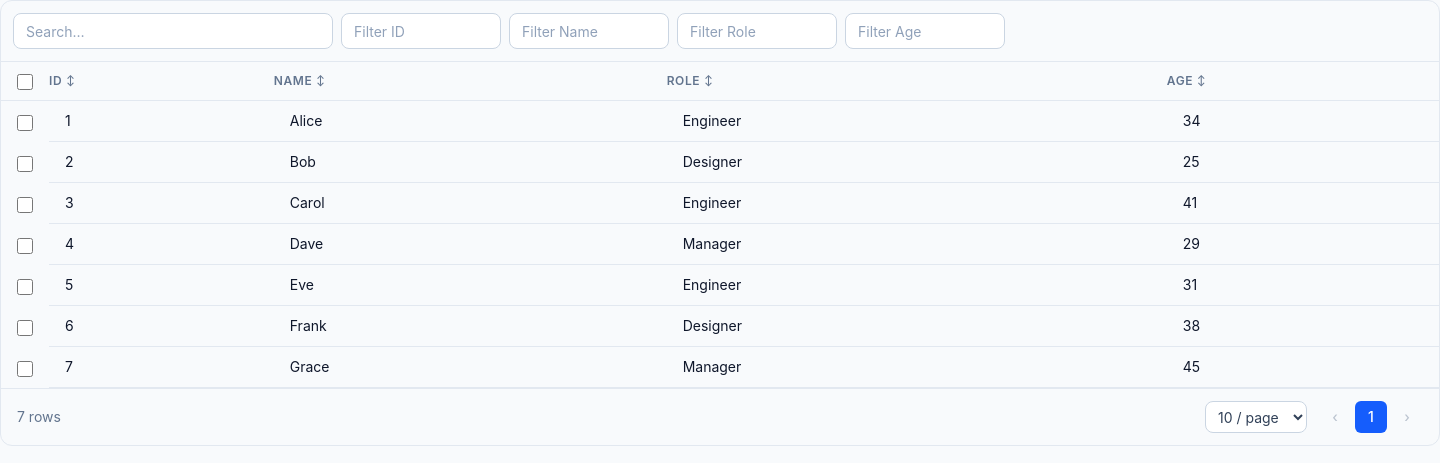
Scenario: DataTable › sorting › indicates the sort direction on the header
The width and height of the screenshot is (1440, 463).
Click the button with aria-label "Sort by Name". click: (300, 81)
box: [274, 73, 326, 89]
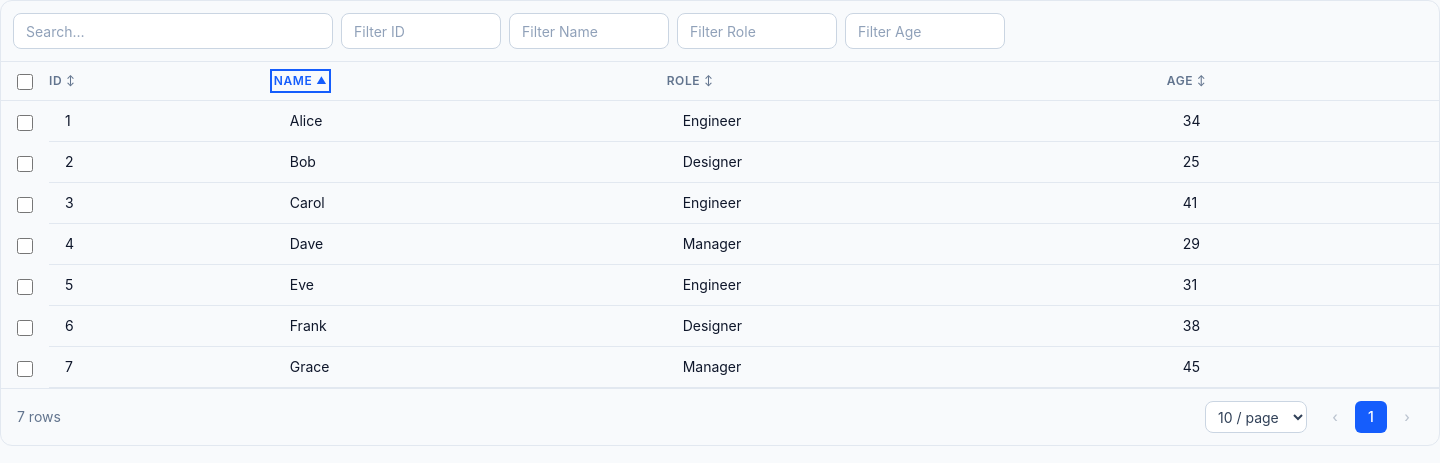
Result: the button with aria-label "Sort by Name" shows "▲"
Click the button with aria-label "Sort by Name". click: (301, 81)
box: [274, 73, 327, 89]
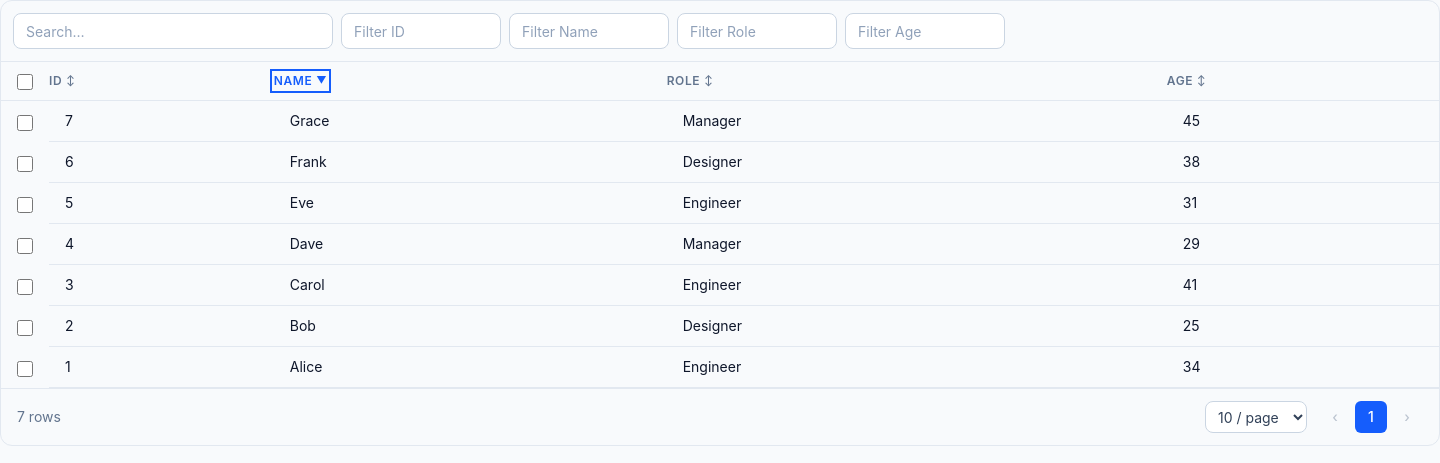
Result: the button with aria-label "Sort by Name" shows "▼" at [274, 73, 327, 89]
